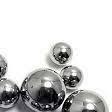ironball: (17, 69, 70, 111), (63, 87, 111, 111), (57, 64, 86, 92), (50, 41, 76, 67), (0, 77, 20, 109), (0, 52, 9, 80)
